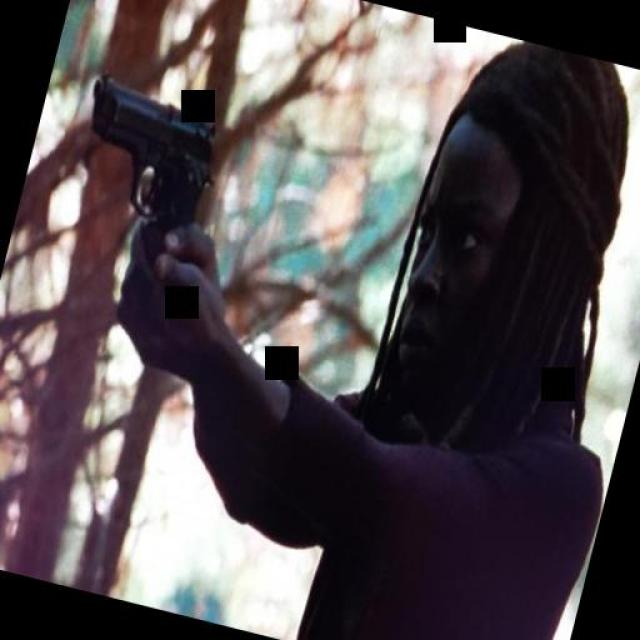gun: (56, 56, 235, 270)
